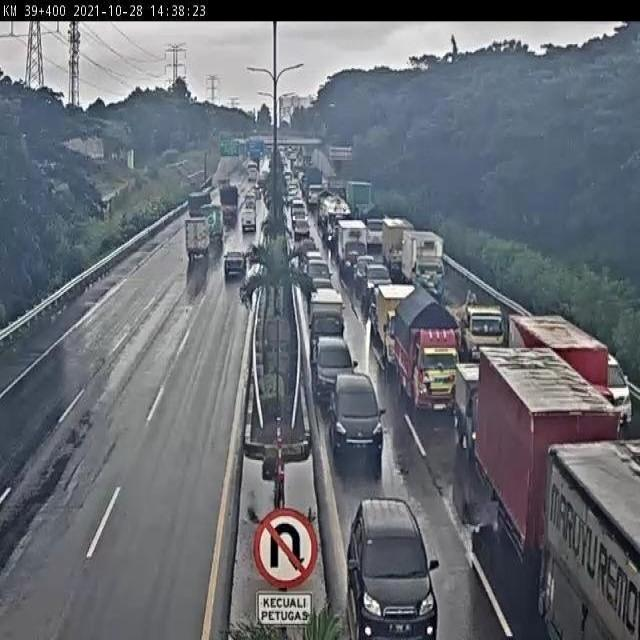Bus: (247, 161, 258, 184)
Car: (345, 497, 438, 639), (328, 371, 386, 467), (314, 336, 356, 408), (607, 352, 634, 428), (360, 263, 392, 314), (354, 255, 377, 300), (303, 257, 333, 288), (298, 235, 320, 259), (309, 274, 333, 296), (303, 248, 323, 273), (293, 219, 311, 240), (291, 209, 308, 227), (246, 188, 256, 204)
Truck: (472, 344, 623, 570), (540, 440, 638, 637), (506, 311, 615, 407), (387, 287, 461, 414), (445, 290, 506, 363), (376, 283, 419, 367), (400, 229, 447, 301), (453, 358, 486, 454), (381, 215, 415, 278), (306, 288, 343, 342), (335, 219, 368, 278), (318, 194, 351, 249), (359, 198, 386, 248), (184, 217, 211, 264), (344, 179, 374, 221), (203, 204, 224, 248), (302, 167, 324, 208), (218, 184, 238, 228), (188, 188, 212, 218), (327, 174, 348, 202)
Van: (224, 250, 246, 280), (240, 207, 256, 234)
